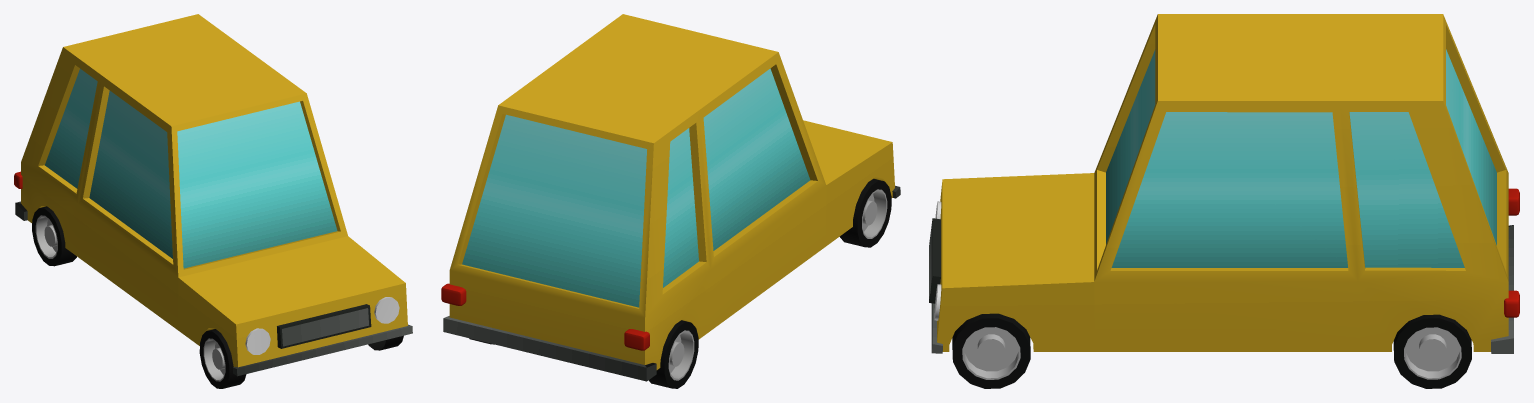
The model's file is SM_Car_Yellow.fbx.
The picture shows the model from 3 angles, left to right: view 1: azimuth 30°, elevation 25°; view 2: azimuth 150°, elevation 25°; view 3: azimuth 270°, elevation 25°; orthographic projection. The views are drawn at different scales.
Parts seen in each view (by area): view 1: Car, Wheels, Grate, Headlights; view 2: Car, Wheels, Break_Lights; view 3: Car, Wheels, Grate, Break_Lights.
Boxes of the visible parts, box(x1,y1,x2,y2) form: Car: box(15, 14, 412, 376); Wheels: box(32, 206, 403, 388); Grate: box(277, 304, 371, 348); Headlights: box(245, 297, 399, 354); Car: box(443, 14, 900, 381); Wheels: box(469, 178, 891, 388); Break_Lights: box(441, 283, 649, 350); Car: box(931, 14, 1513, 353); Wheels: box(952, 313, 1471, 388); Grate: box(929, 218, 940, 303); Break_Lights: box(1504, 188, 1519, 317).
Bounding box in the file's own units: 253 × 284 × 553.
Materials: 1 (1 with a texture image).
